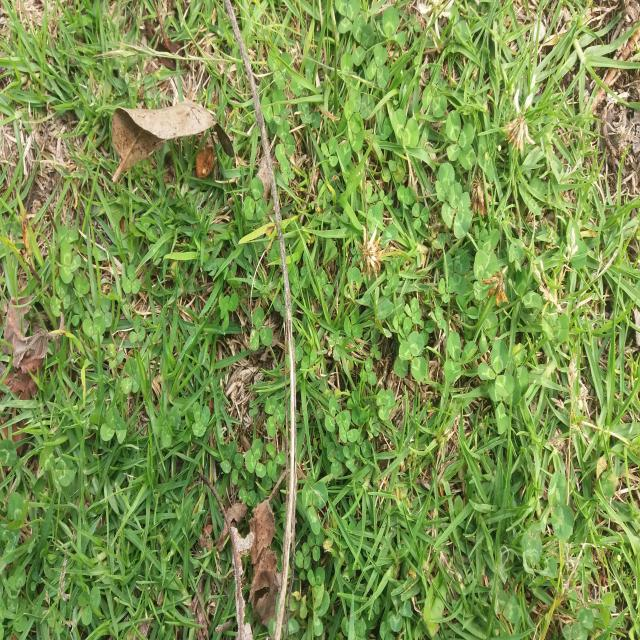Four Leaf Clover: (441, 183, 474, 239)
